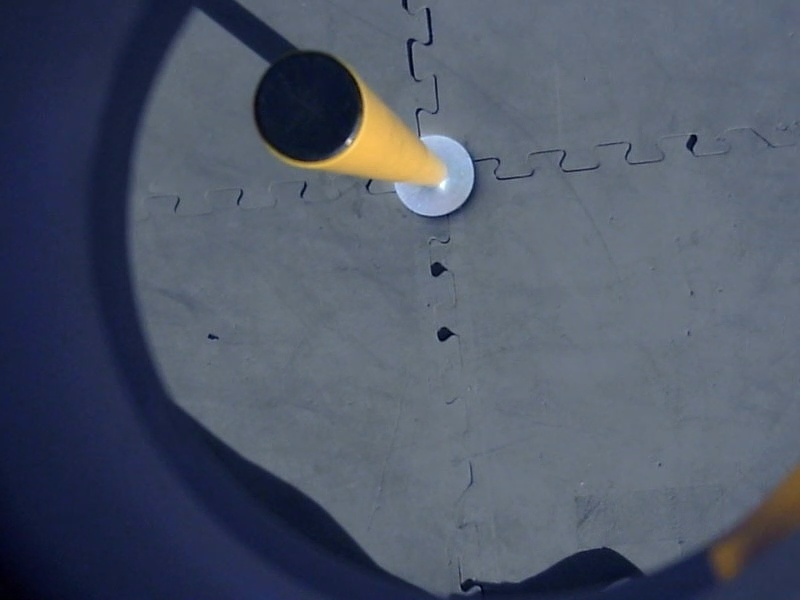tip: (246, 45, 370, 172)
